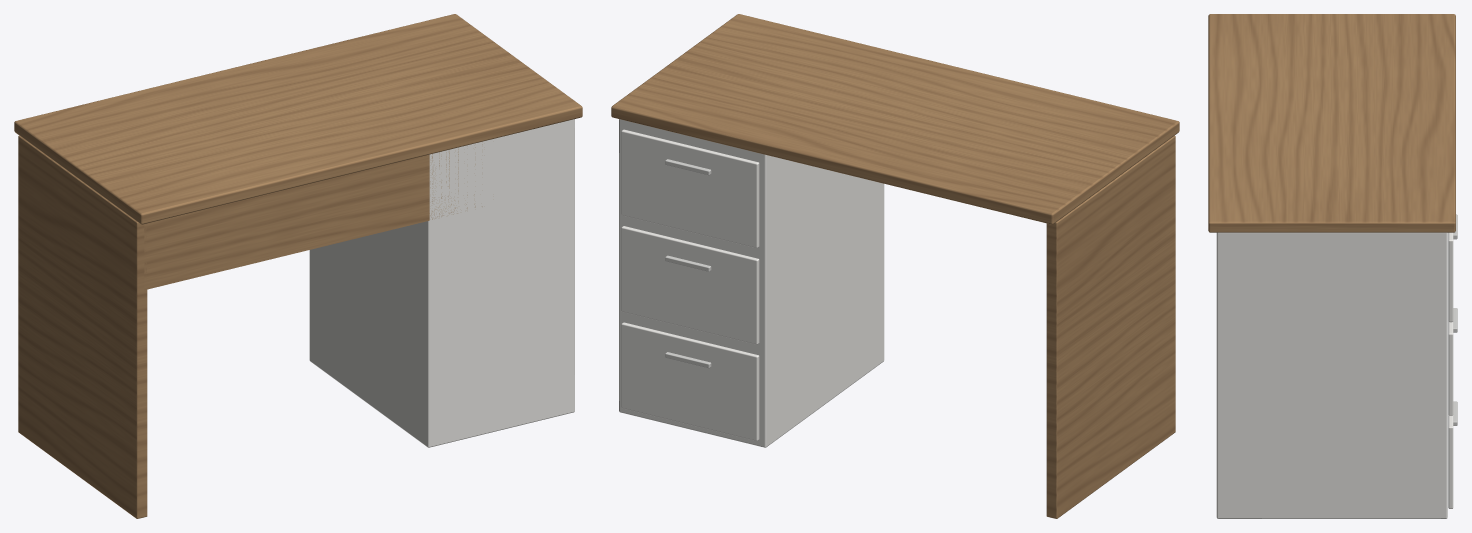
Rendered from mueble.escritorio.fbx.
3 views of the same model, side by side, from view 1: azimuth 30°, elevation 25°; view 2: azimuth 150°, elevation 25°; view 3: azimuth 270°, elevation 25° (orthographic). The views are drawn at different scales.
Parts seen in each view (by area): view 1: Cajonera, Cubierta, Lateral, Faldon trasero; view 2: Cubierta, Lateral, Cajonera, Frente del cajon.001, Frente del cajon.002, Frente del cajon; view 3: Cajonera, Cubierta, Frente del cajon, Frente del cajon.001, Frente del cajon.002.
Boxes of the visible parts, <box> form: Cajonera: <box>309,119,574,447</box>; Cubierta: <box>14,14,582,224</box>; Lateral: <box>18,135,147,518</box>; Faldon trasero: <box>144,144,482,290</box>; Cubierta: <box>611,14,1179,224</box>; Lateral: <box>1046,135,1175,518</box>; Cajonera: <box>619,119,884,447</box>; Frente del cajon.001: <box>621,226,759,344</box>; Frente del cajon.002: <box>621,129,759,247</box>; Frente del cajon: <box>621,322,759,440</box>; Cajonera: <box>1216,232,1447,518</box>; Cubierta: <box>1208,14,1455,232</box>; Frente del cajon: <box>1448,415,1453,508</box>; Frente del cajon.001: <box>1448,321,1453,415</box>; Frente del cajon.002: <box>1448,232,1453,322</box>.
Size of the model in its own units: 1.2 by 0.8 by 0.604.
Materials: 3 (1 with a texture image).
